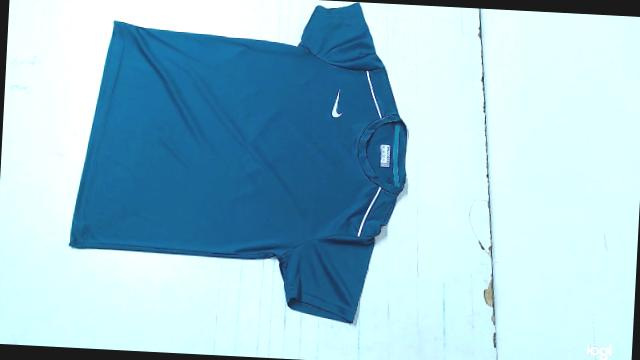new-garment: (69, 3, 406, 322)
